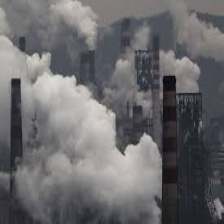smoke: (6, 48, 162, 224)
